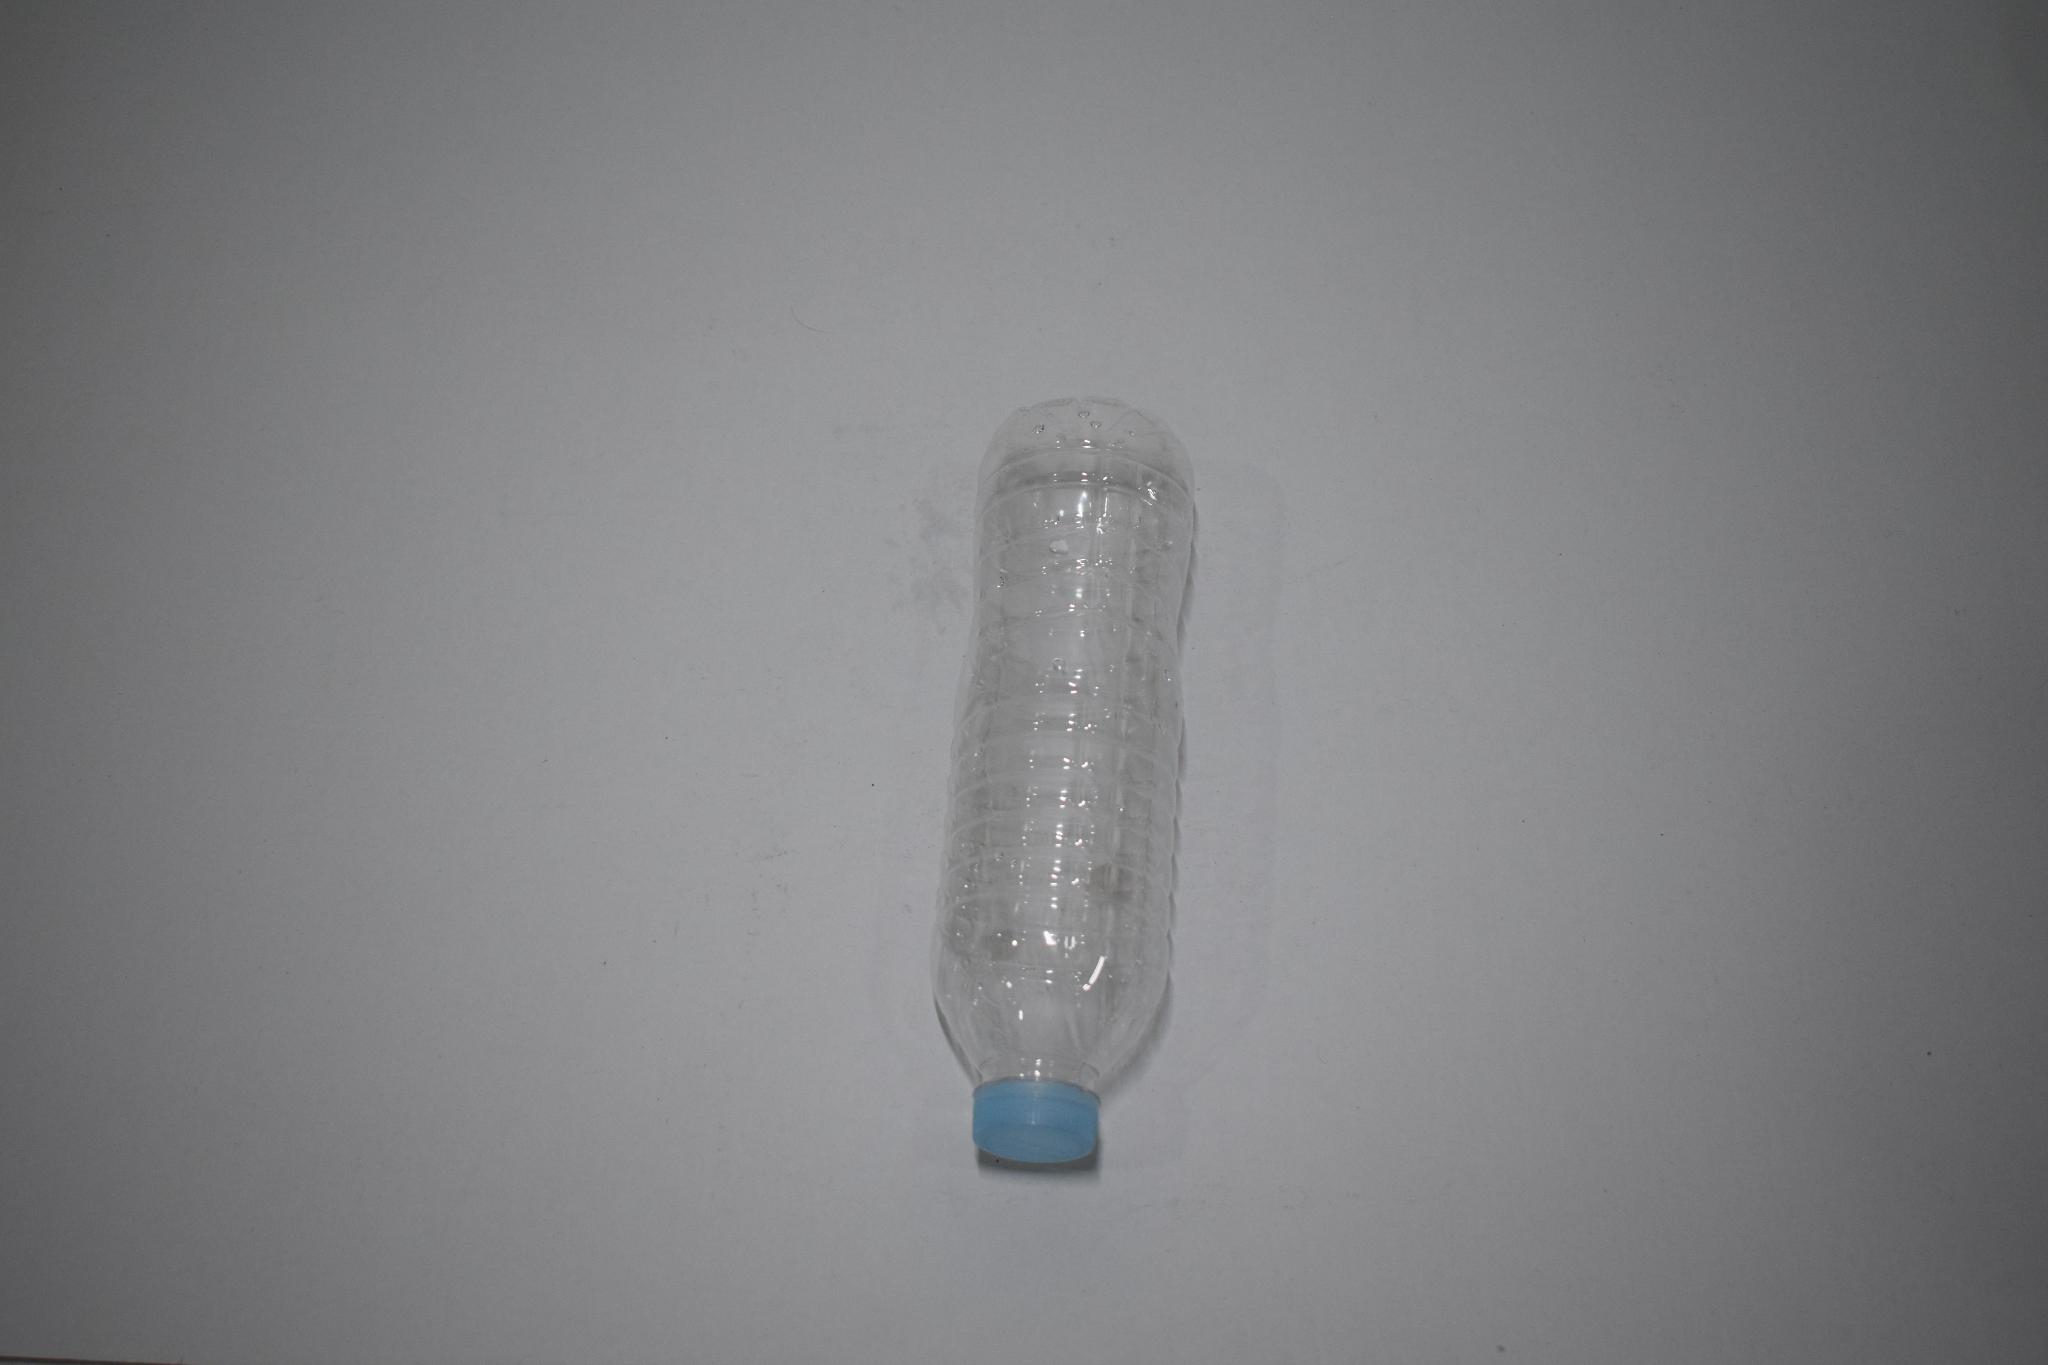bottle: (912, 394, 1224, 1220)
